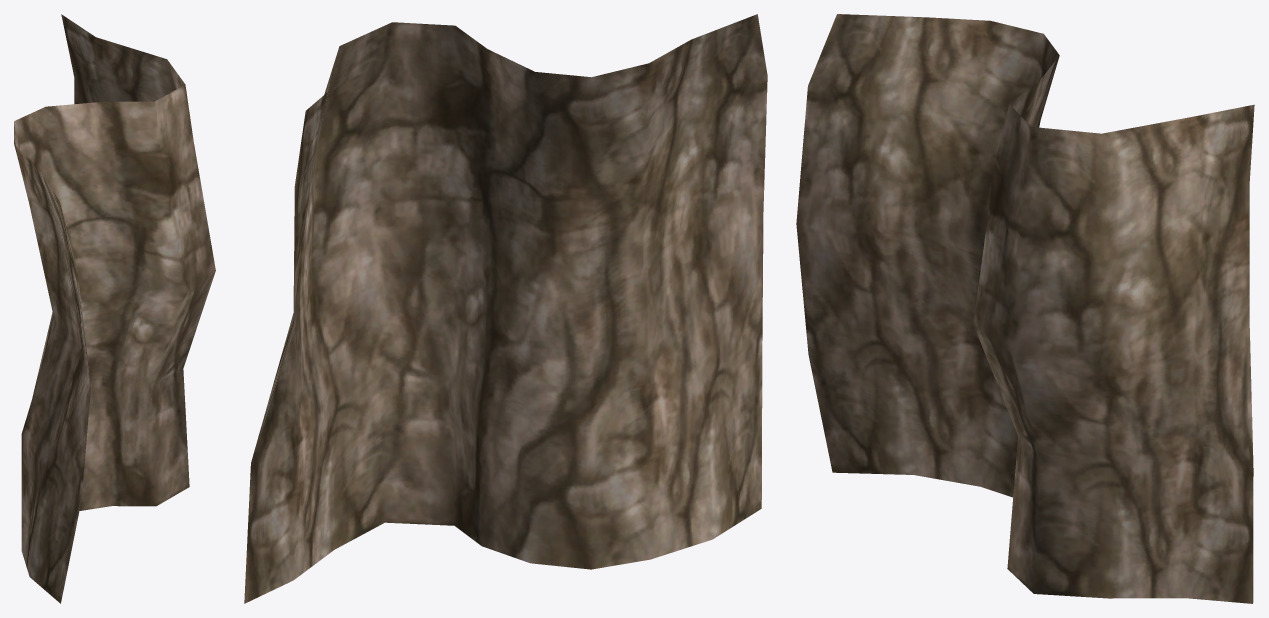
Rendered from EKH_CAVERNS_PS_CA_OBJECT37.fbx.
3 renders of one model, left to right at view 1: azimuth 30°, elevation 25°; view 2: azimuth 150°, elevation 25°; view 3: azimuth 270°, elevation 25°, orthographic. The views are drawn at different scales.
Visible parts, largest first — view 1: EKH_CAVERNS_PS_CA_OBJECT37; view 2: EKH_CAVERNS_PS_CA_OBJECT37; view 3: EKH_CAVERNS_PS_CA_OBJECT37.
Part boxes in pixels (<box>): EKH_CAVERNS_PS_CA_OBJECT37: <box>14,14,215,603</box>; EKH_CAVERNS_PS_CA_OBJECT37: <box>244,14,767,603</box>; EKH_CAVERNS_PS_CA_OBJECT37: <box>796,14,1254,603</box>.
Bounding box in the file's own units: 56249 × 89131 × 78536.
Materials: 1 (1 with a texture image).
